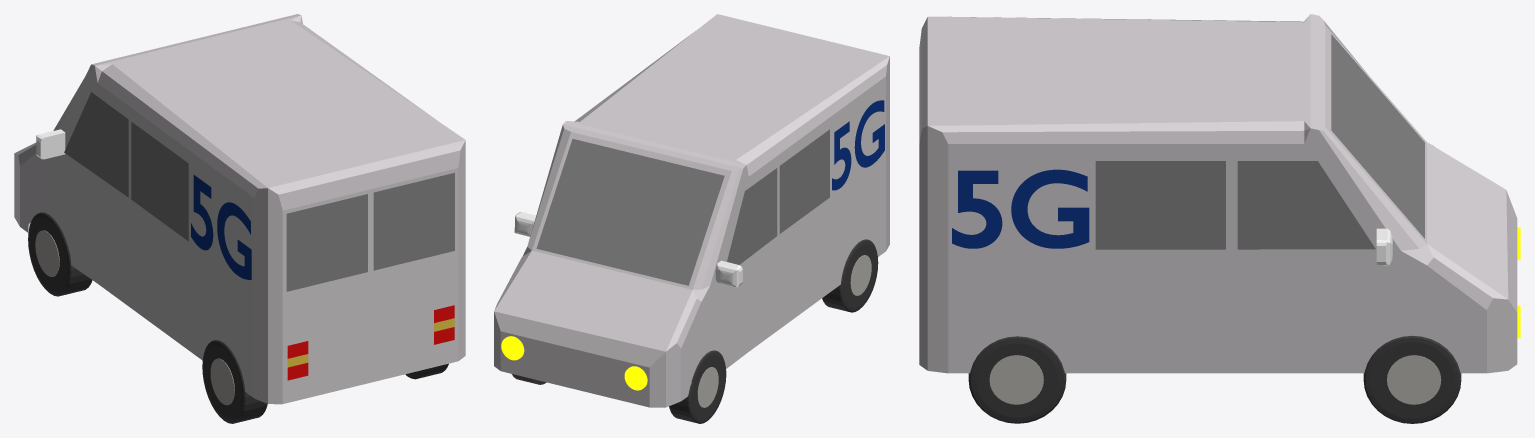
File: 5G-auto5.fbx
3 views of the same model, side by side, from view 1: azimuth 30°, elevation 25°; view 2: azimuth 150°, elevation 25°; view 3: azimuth 270°, elevation 25° (orthographic). The views are drawn at different scales.
Visible parts, largest first — view 1: Auto, Oikea_takaikkuna, Vasen_takaikkuna, Oikea_takasivuikkuna.001, Oikea_takasivuikkuna.002, Vasen_takarengas, Vasen_eturengas, Vasen_5G, Vasen_takavanne, Vasen__etuvanne, Vasen_peili; view 2: Auto, Tuulilasi, Oikea_takasivuikkuna.001, Oikea_takasivuikkuna.002, Vasen_eturengas, Vasen_takarengas, Vasen_5G, Vasen_takavanne, Vasen__etuvanne, Vasen_peili, Vasen_etuvalo, Oikea_etuvalo (+1 smaller); view 3: Auto, Oikea_takasivuikkuna, Oikea_sivuikkuna, Tuulilasi, OIkea_5G, Oikea_eturengas, OIkea_takarengas, Oikea_takavanne, Oikea_etuvanne, Oikea_peili.
Boxes of the visible parts, box(x1,y1,x2,y2) form: Auto: box(14, 14, 465, 404); Oikea_takaikkuna: box(373, 172, 454, 270); Vasen_takaikkuna: box(286, 194, 367, 291); Oikea_takasivuikkuna.001: box(131, 122, 188, 241); Oikea_takasivuikkuna.002: box(64, 92, 128, 197); Vasen_takarengas: box(202, 340, 267, 423); Vasen_eturengas: box(28, 212, 92, 296); Vasen_5G: box(191, 175, 251, 279); Vasen_takavanne: box(210, 358, 234, 405); Vasen__etuvanne: box(35, 230, 59, 276); Vasen_peili: box(36, 129, 65, 159); Auto: box(494, 14, 889, 407); Tuulilasi: box(536, 139, 724, 285); Oikea_takasivuikkuna.001: box(779, 129, 829, 233); Oikea_takasivuikkuna.002: box(727, 168, 777, 264); Vasen_eturengas: box(669, 350, 726, 423); Vasen_takarengas: box(822, 239, 878, 312); Vasen_5G: box(832, 100, 884, 190); Vasen_takavanne: box(850, 255, 871, 295); Vasen__etuvanne: box(697, 367, 718, 407); Vasen_peili: box(715, 260, 742, 287); Vasen_etuvalo: box(624, 366, 647, 390); Oikea_etuvalo: box(501, 336, 524, 360); Auto: box(919, 14, 1517, 373); Oikea_takasivuikkuna: box(1095, 161, 1225, 249); Oikea_sivuikkuna: box(1237, 161, 1375, 249); Tuulilasi: box(1331, 34, 1424, 238); OIkea_5G: box(952, 169, 1089, 248); Oikea_eturengas: box(1363, 335, 1461, 423); OIkea_takarengas: box(968, 336, 1066, 423); Oikea_takavanne: box(989, 355, 1043, 404); Oikea_etuvanne: box(1387, 355, 1441, 404); Oikea_peili: box(1376, 228, 1392, 265).
Size of the model in its own units: 310 by 300 by 554.
